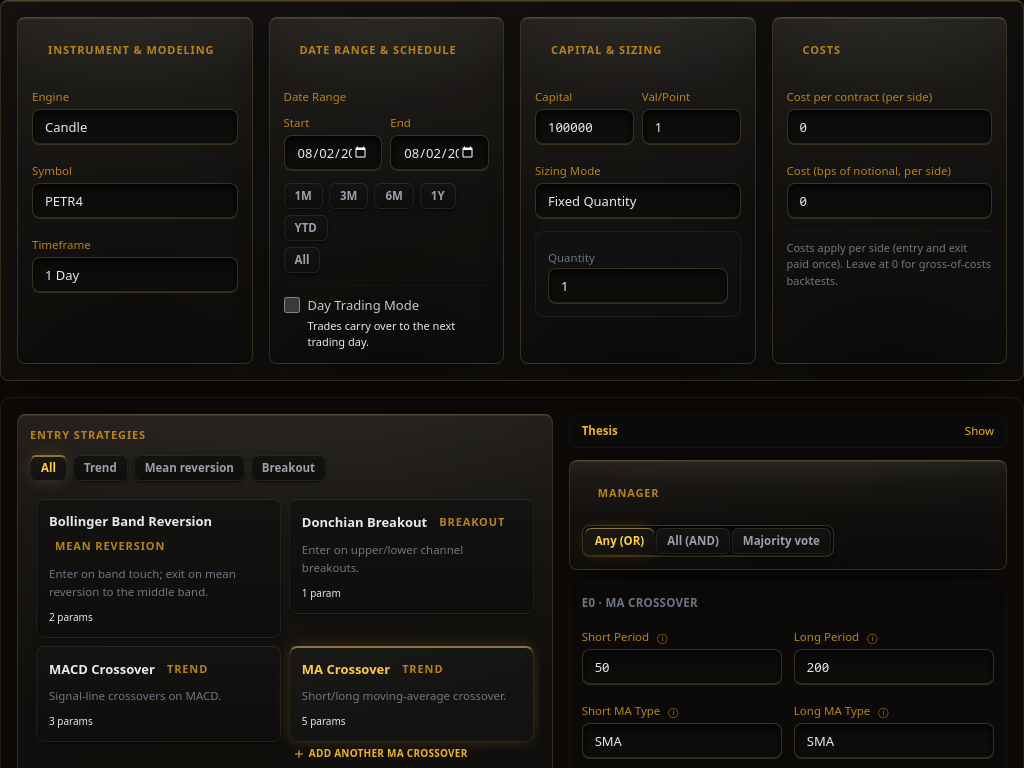
BacktestSetupPanel › filters strategies by engine and swaps selection when switching to tick
Expected: the button "MA Crossover" is shown, [289,646,534,742]
Expected: the button "Tick MA Breakout" is not shown
Select "Tick" in the dropdown labelled "Engine": (135, 126) [32,108,238,144]
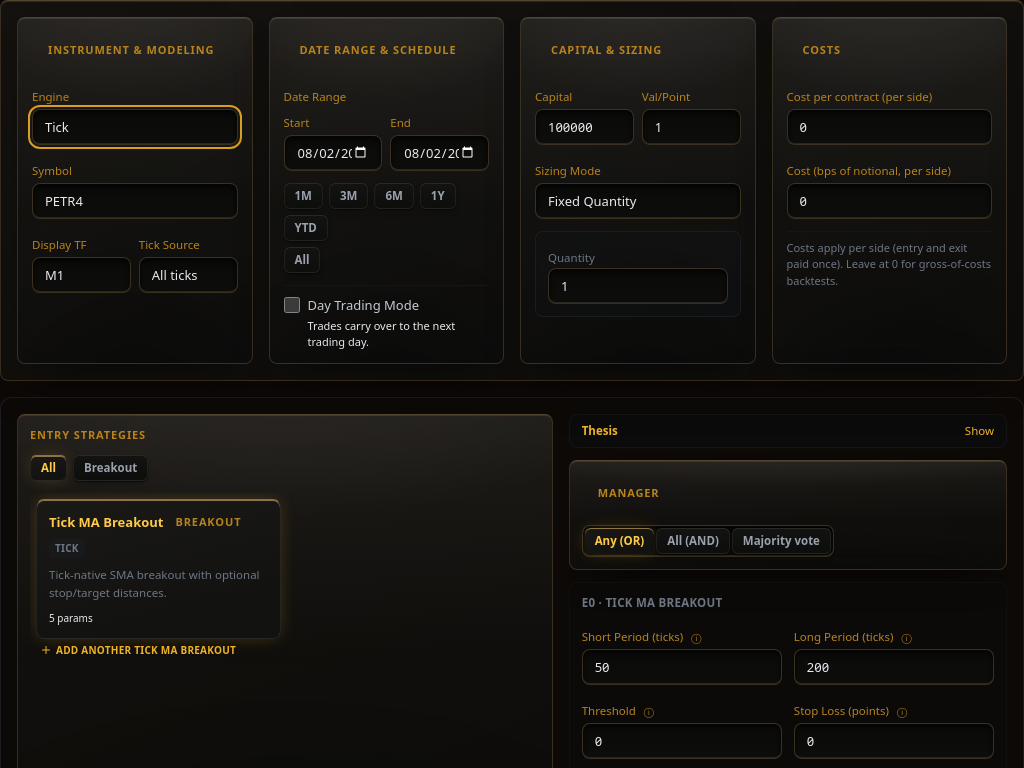
Expected: the button "Tick MA Breakout" is shown, [36,499,281,639]
Expected: the button "MA Crossover" is gone
Expected: the dropdown labelled "Display TF" shows "M1", [32,256,131,292]
Select "Candle" in the dropdown labelled "Engine": (135, 126) [32,108,238,144]
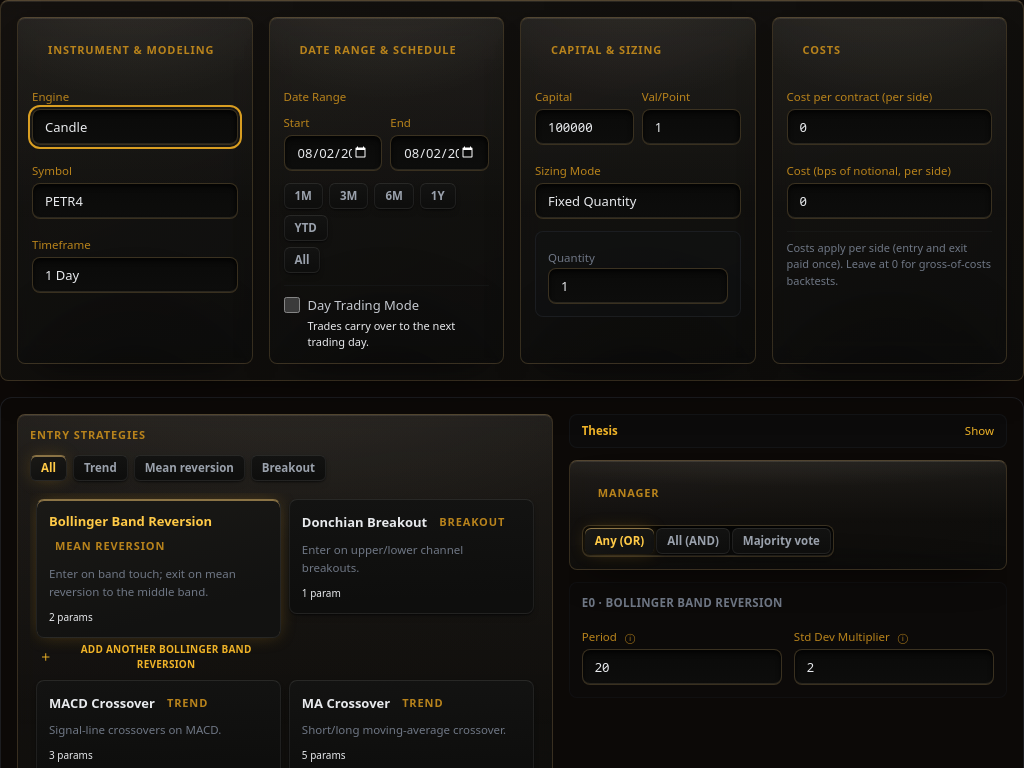
Expected: the button "Bollinger Band Reversion" is shown, [36,499,281,638]
Expected: the text "Timeframe" is shown, [32,236,91,252]
